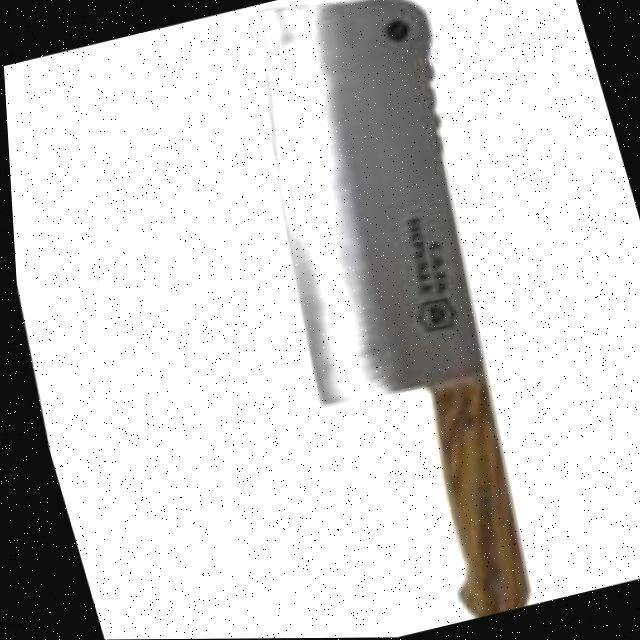knife: (205, 0, 591, 639)
